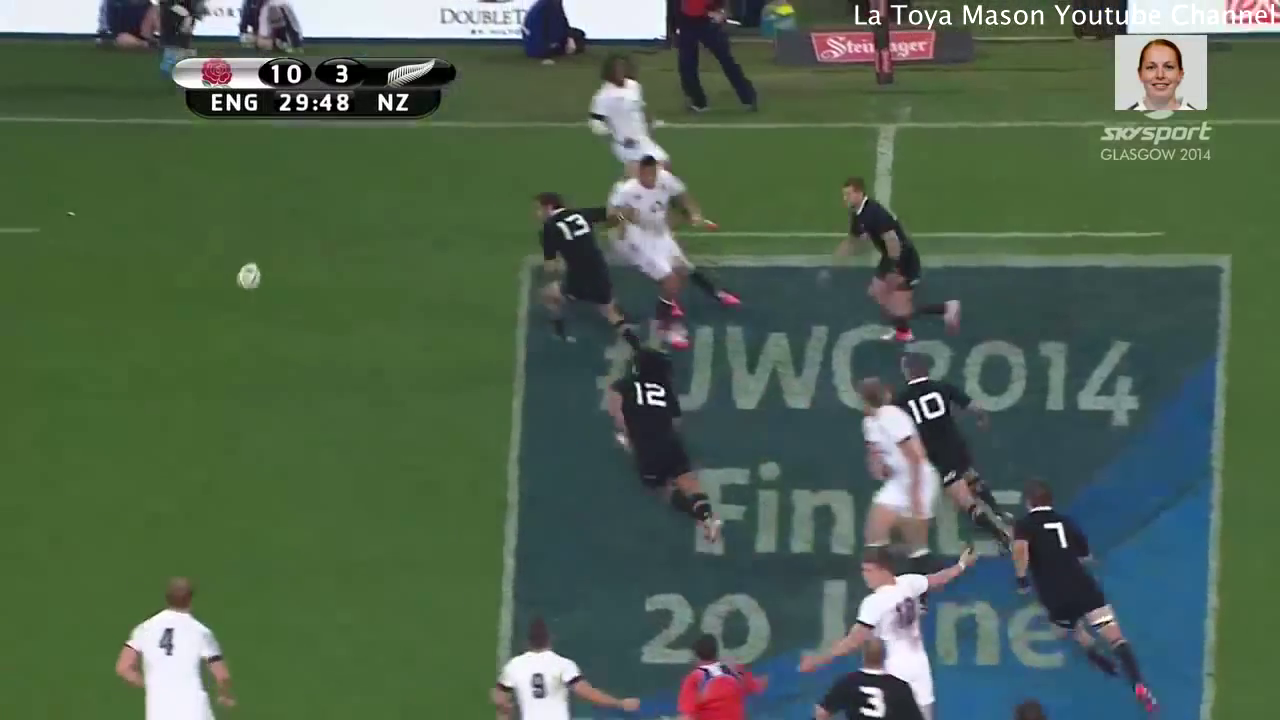ball: (229, 254, 266, 300)
player: (1001, 479, 1173, 720), (878, 343, 1021, 560), (605, 348, 727, 543), (828, 172, 950, 352), (528, 187, 645, 356), (109, 575, 243, 720), (844, 376, 945, 564), (483, 616, 648, 720), (579, 52, 680, 171), (812, 632, 927, 720), (663, 632, 770, 720)
